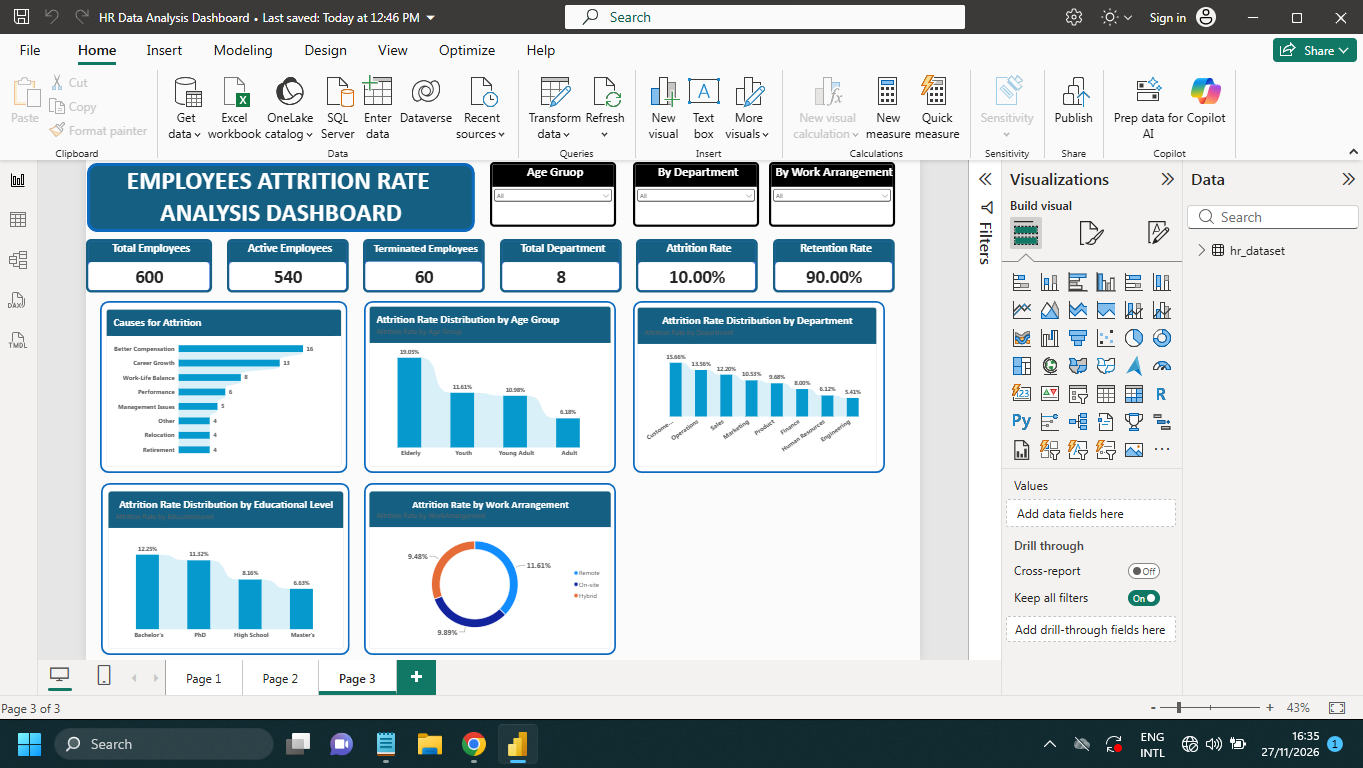

The dashboard page shown, as its layout file describes it:
{"tool":"powerbi","page":{"name":"Page 3","canvas":[1920,1150],"ordinal":2},"visuals":[{"type":"shape","box":[640,325,579.5,395.6],"z":0},{"type":"shape","box":[1257.3,325,579.5,395.6],"z":1000},{"type":"shape","box":[3.1,7.6,892,158.7],"z":2000},{"type":"textbox","box":[9.4,12.6,879.4,148.7],"z":3000},{"type":"cardVisual","title":"Total Employees","fields":{"Data":["hr_dataset.Total Employees"]},"box":[0,181.4,289.8,123.5],"z":4000},{"type":"cardVisual","title":"Active Employees","fields":{"Data":["hr_dataset.Active Employees"]},"box":[324,181.4,279.7,123.5],"z":5000},{"type":"cardVisual","title":"Retention Rate","fields":{"Data":["hr_dataset.Retntion Rate"]},"box":[1579.8,181.4,279.7,123.5],"z":6000},{"type":"cardVisual","title":"Attrition Rate","fields":{"Data":["hr_dataset.Attrition Rate"]},"box":[1265.9,181.4,279.7,123.5],"z":7000},{"type":"cardVisual","title":"Total Department","fields":{"Data":["hr_dataset.Total Department"]},"box":[951.9,181.4,279.7,123.5],"z":8000},{"type":"shape","box":[32.8,325,569.4,395.6],"z":9000},{"type":"columnChart","title":"Attrition Rate Distribution by Department","fields":{"Category":["hr_dataset.Department"],"Y":["hr_dataset.Attrition Rate"]},"box":[1267.4,337.6,551.8,367.9],"z":10000},{"type":"columnChart","title":"Attrition Rate Distribution by Age Group","fields":{"Category":["hr_dataset.Age Group"],"Y":["hr_dataset.Attrition Rate"]},"box":[650.1,335.1,556.9,370.4],"z":11000},{"type":"shape","box":[640,743.3,579.5,395.6],"z":12000},{"type":"barChart","title":"Causes for Attrition","fields":{"Category":["hr_dataset.ExitReason"],"Y":["hr_dataset.Terminated Employee"]},"box":[45.4,342.7,541.7,362.8],"z":13000},{"type":"shape","box":[35.3,743.3,572,395.6],"z":14000},{"type":"columnChart","title":"Attrition Rate Distribution by Educational Level","fields":{"Category":["hr_dataset.EducationLevel"],"Y":["hr_dataset.Attrition Rate"]},"box":[50.4,760.9,541.7,362.8],"z":15000},{"type":"donutChart","title":"Attrition Rate by Work Arrangement","fields":{"Category":["hr_dataset.WorkArrangement"],"Y":["hr_dataset.Attrition Rate"]},"box":[650.1,760.9,556.9,362.8],"z":16000},{"type":"cardVisual","title":"Terminated Employees","fields":{"Data":["hr_dataset.Terminated Employee"]},"box":[638,181.4,279.7,123.5],"z":17000},{"type":"slicer","title":"Age Gruop","fields":{"Values":["hr_dataset.Age Group"]},"box":[929.8,5,289.8,148.7],"z":17001},{"type":"slicer","title":"By Department","fields":{"Values":["hr_dataset.Department"]},"box":[1257.3,5,289.8,148.7],"z":17002},{"type":"slicer","title":"By Work Arrangement","fields":{"Values":["hr_dataset.WorkArrangement"]},"box":[1569.8,5,289.8,148.7],"z":17003}]}

Visuals, with their boxes on the page's 1920x1150 design canvas (x1, y1, x2, y2). These are canvas units, not pixel positions in the 1363x768 screenshot, which may show the page scaled, cropped or inside an application window:
shape: left=640, top=325, right=1220, bottom=721
shape: left=1257, top=325, right=1837, bottom=721
shape: left=3, top=8, right=895, bottom=166
textbox: left=9, top=13, right=889, bottom=161
"Total Employees" cardVisual: left=0, top=181, right=290, bottom=305
"Active Employees" cardVisual: left=324, top=181, right=604, bottom=305
"Retention Rate" cardVisual: left=1580, top=181, right=1860, bottom=305
"Attrition Rate" cardVisual: left=1266, top=181, right=1546, bottom=305
"Total Department" cardVisual: left=952, top=181, right=1232, bottom=305
shape: left=33, top=325, right=602, bottom=721
"Attrition Rate Distribution by Department" columnChart: left=1267, top=338, right=1819, bottom=706
"Attrition Rate Distribution by Age Group" columnChart: left=650, top=335, right=1207, bottom=706
shape: left=640, top=743, right=1220, bottom=1139
"Causes for Attrition" barChart: left=45, top=343, right=587, bottom=706
shape: left=35, top=743, right=607, bottom=1139
"Attrition Rate Distribution by Educational Level" columnChart: left=50, top=761, right=592, bottom=1124
"Attrition Rate by Work Arrangement" donutChart: left=650, top=761, right=1207, bottom=1124
"Terminated Employees" cardVisual: left=638, top=181, right=918, bottom=305
"Age Gruop" slicer: left=930, top=5, right=1220, bottom=154
"By Department" slicer: left=1257, top=5, right=1547, bottom=154
"By Work Arrangement" slicer: left=1570, top=5, right=1860, bottom=154
